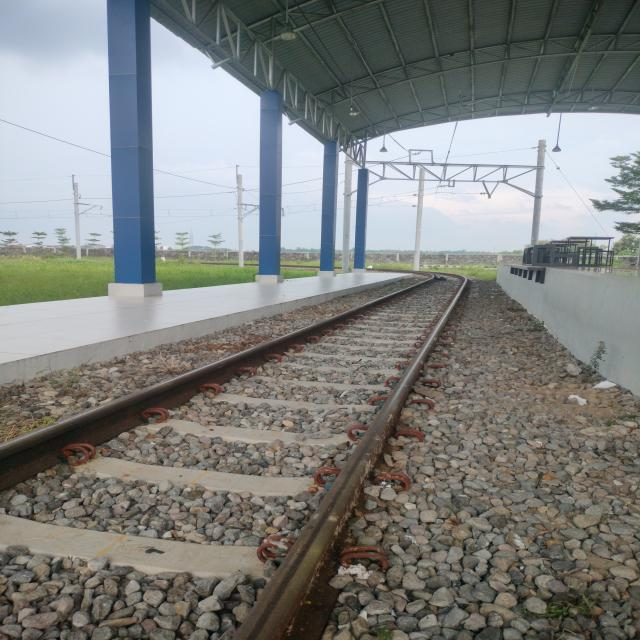rail-detection: (0, 277, 434, 490), (235, 275, 469, 640)
